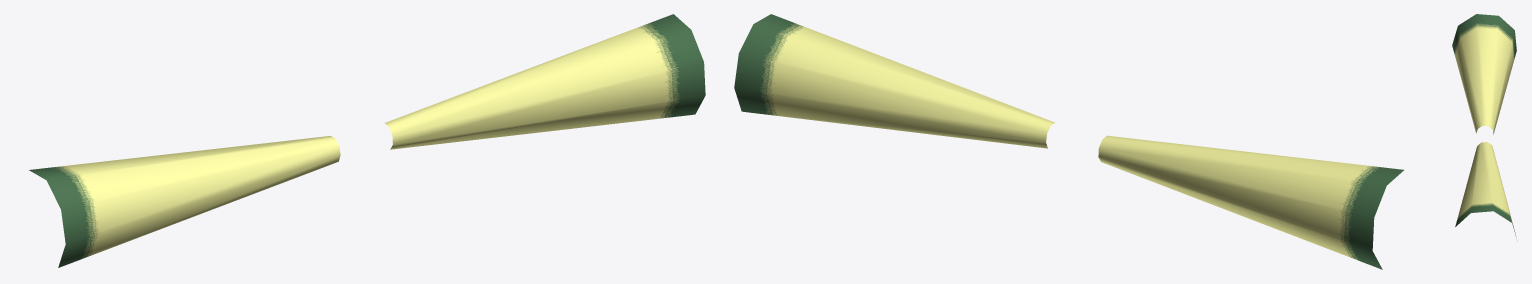
The model's file is Light.glb.
The picture shows the model from 3 angles, left to right: view 1: azimuth 30°, elevation 25°; view 2: azimuth 150°, elevation 25°; view 3: azimuth 270°, elevation 25°; orthographic projection. The views are drawn at different scales.
Visible parts, largest first — view 1: light.png__; view 2: light.png__; view 3: light.png__.
Boxes of the visible parts, <box> form: light.png__: <box>29,14,705,267</box>; light.png__: <box>734,14,1403,269</box>; light.png__: <box>1452,14,1516,236</box>.
Size of the model in its own units: 36.74 by 5.1 by 5.18.
1 material, 1 textured.
